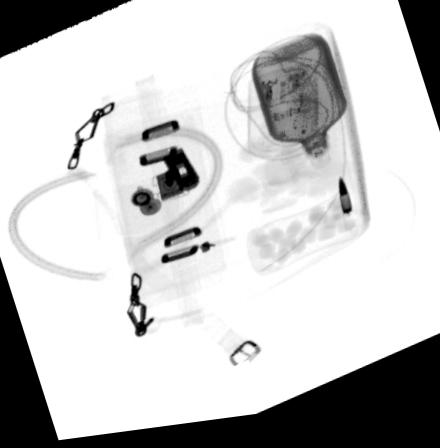Bullet: (338, 185, 352, 223)
